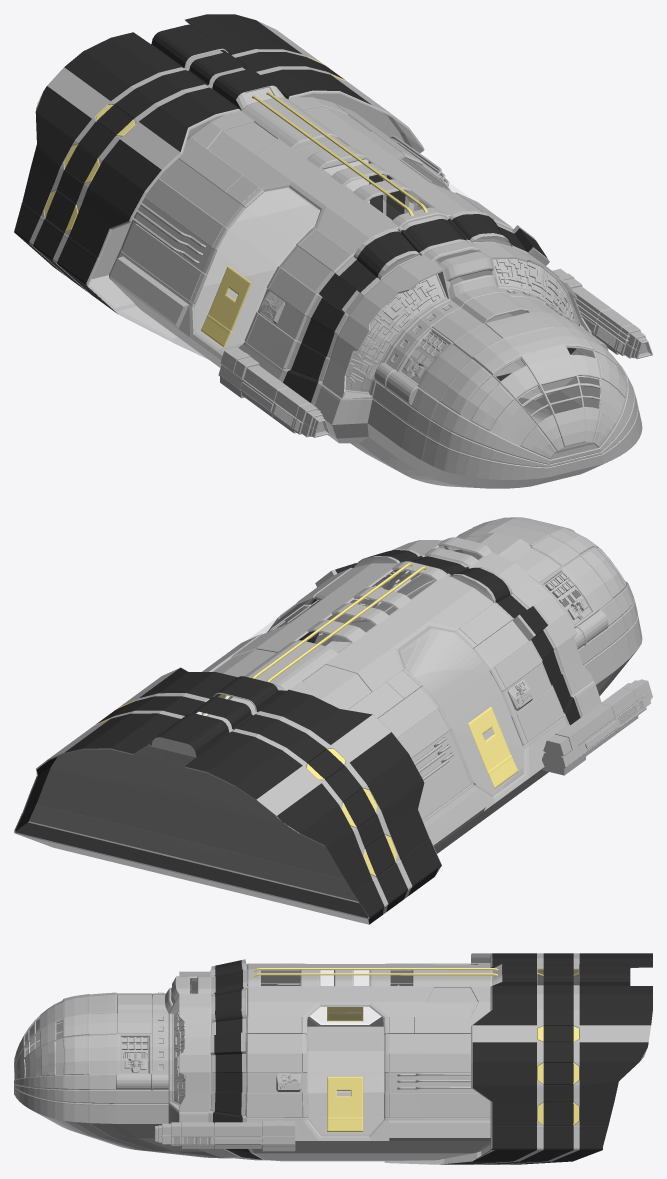
File: SpiderF.glb
The picture shows the model from 3 angles, top to bottom: view 1: azimuth 30°, elevation 25°; view 2: azimuth 150°, elevation 25°; view 3: azimuth 270°, elevation 25°; orthographic projection. The views are drawn at different scales.
Parts seen in each view (by area): view 1: spiderSpaceship, spiderSpaceship.006, spiderSpaceship.003, spiderSpaceship.005, spiderSpaceship.002; view 2: spiderSpaceship, spiderSpaceship.006, spiderSpaceship.003, spiderSpaceship.005, spiderSpaceship.002; view 3: spiderSpaceship, spiderSpaceship.006, spiderSpaceship.003, spiderSpaceship.005, spiderSpaceship.002, spiderSpaceship.004.
Boxes of the visible parts, x1,y1,x2,y2 form: spiderSpaceship: [29, 20, 652, 488]; spiderSpaceship.006: [14, 14, 383, 313]; spiderSpaceship.003: [33, 52, 575, 402]; spiderSpaceship.005: [311, 296, 642, 488]; spiderSpaceship.002: [44, 56, 427, 347]; spiderSpaceship: [14, 517, 652, 924]; spiderSpaceship.006: [15, 667, 441, 924]; spiderSpaceship.003: [96, 550, 580, 911]; spiderSpaceship.005: [314, 517, 642, 717]; spiderSpaceship.002: [96, 563, 518, 876]; spiderSpaceship: [14, 953, 652, 1164]; spiderSpaceship.006: [441, 953, 652, 1164]; spiderSpaceship.003: [213, 953, 573, 1164]; spiderSpaceship.005: [14, 995, 212, 1123]; spiderSpaceship.002: [252, 968, 578, 1131]; spiderSpaceship.004: [307, 1007, 380, 1029].
Size of the model in its own units: 6.24 by 3.45 by 12.67.
